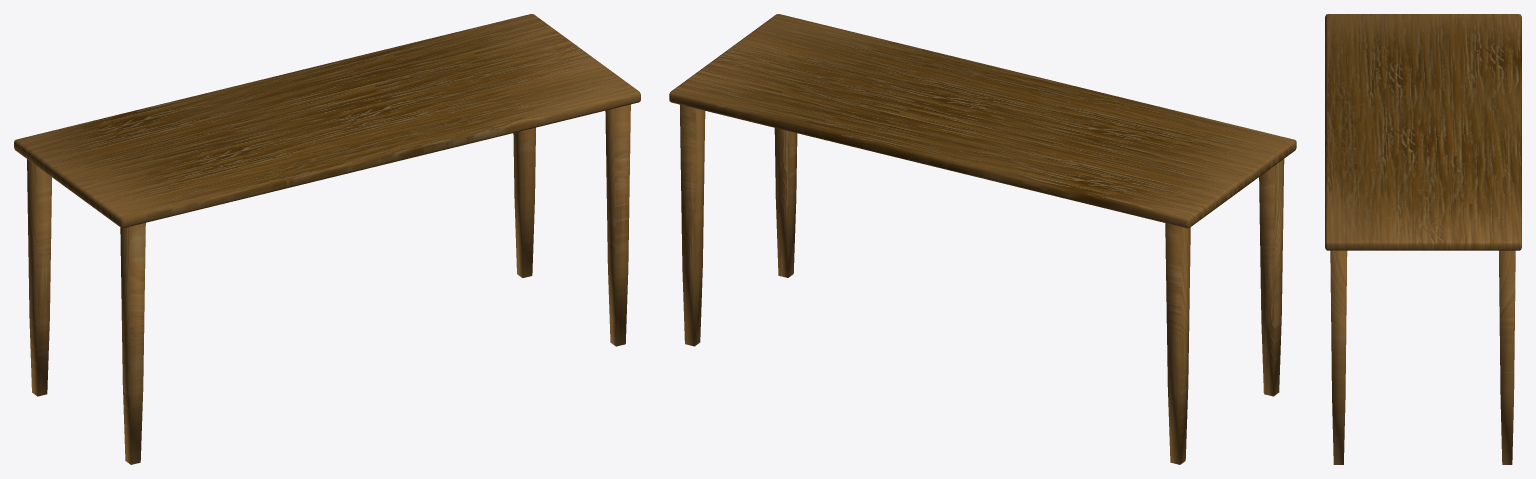
File: table.glb
3 renders of one model, left to right at view 1: azimuth 30°, elevation 25°; view 2: azimuth 150°, elevation 25°; view 3: azimuth 270°, elevation 25°, orthographic. The views are drawn at different scales.
Visible parts, largest first — view 1: Cube.003_0; view 2: Cube.003_0; view 3: Cube.003_0.
Part boxes in pixels (x1=…): Cube.003_0: x1=14, y1=14, x2=640, y2=464; Cube.003_0: x1=669, y1=14, x2=1296, y2=464; Cube.003_0: x1=1325, y1=14, x2=1521, y2=464.
Size of the model in its own units: 5.51 by 2.56 by 2.
1 material, 1 textured.
